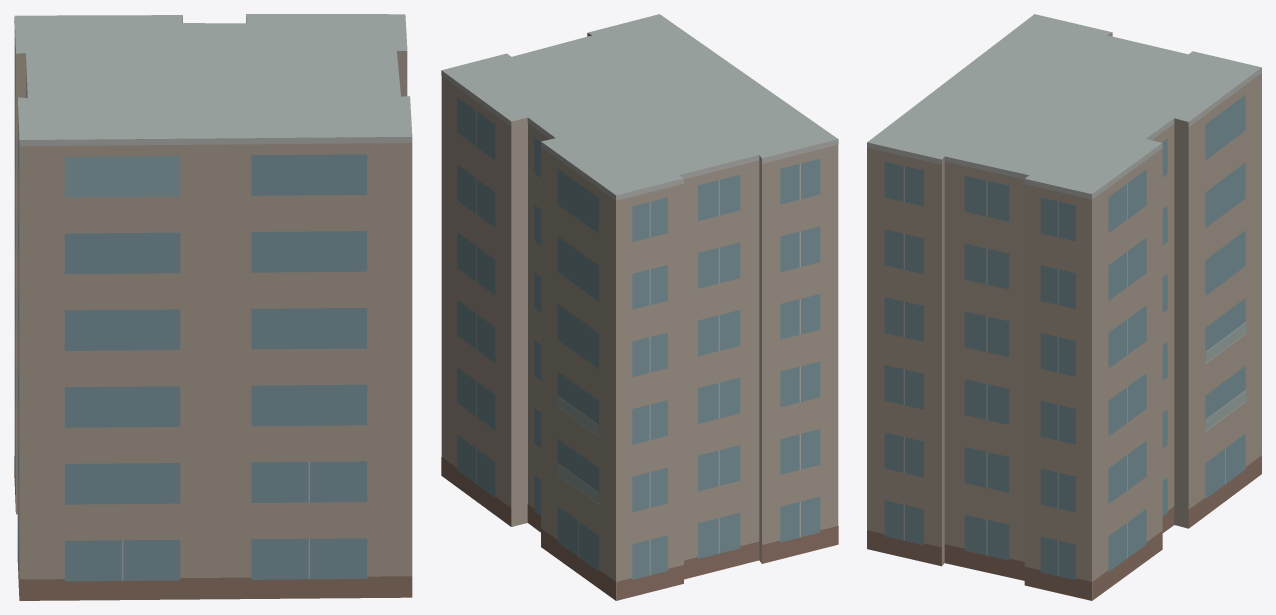
The model's file is survey-upis-33043324.glb.
3 renders of one model, left to right at view 1: azimuth 30°, elevation 25°; view 2: azimuth 150°, elevation 25°; view 3: azimuth 270°, elevation 25°, orthographic. The views are drawn at different scales.
Visible parts, largest first — view 1: survey-upis-33043324.tmp; view 2: survey-upis-33043324.tmp; view 3: survey-upis-33043324.tmp.
Boxes of the visible parts, bbox=[...] form: survey-upis-33043324.tmp: bbox=[14, 14, 412, 600]; survey-upis-33043324.tmp: bbox=[441, 14, 838, 600]; survey-upis-33043324.tmp: bbox=[867, 14, 1261, 600].
Bounding box in the file's own units: 17.4 × 18.3 × 16.11.
